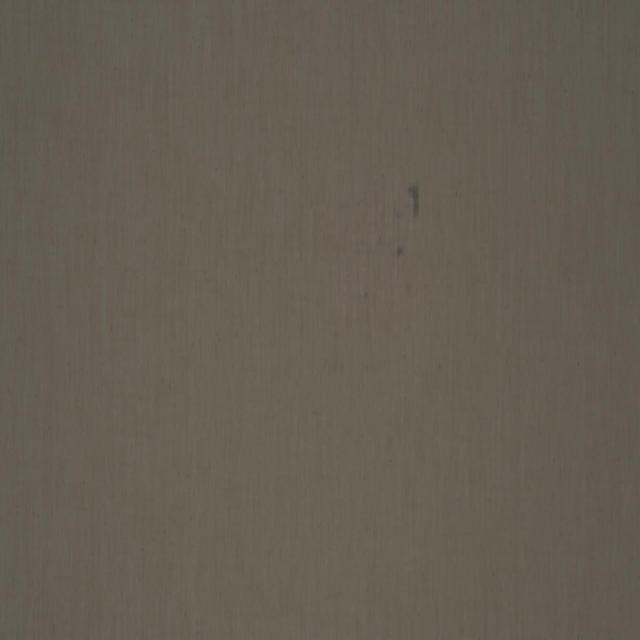dirty: (407, 180, 421, 222), (396, 245, 405, 260)
